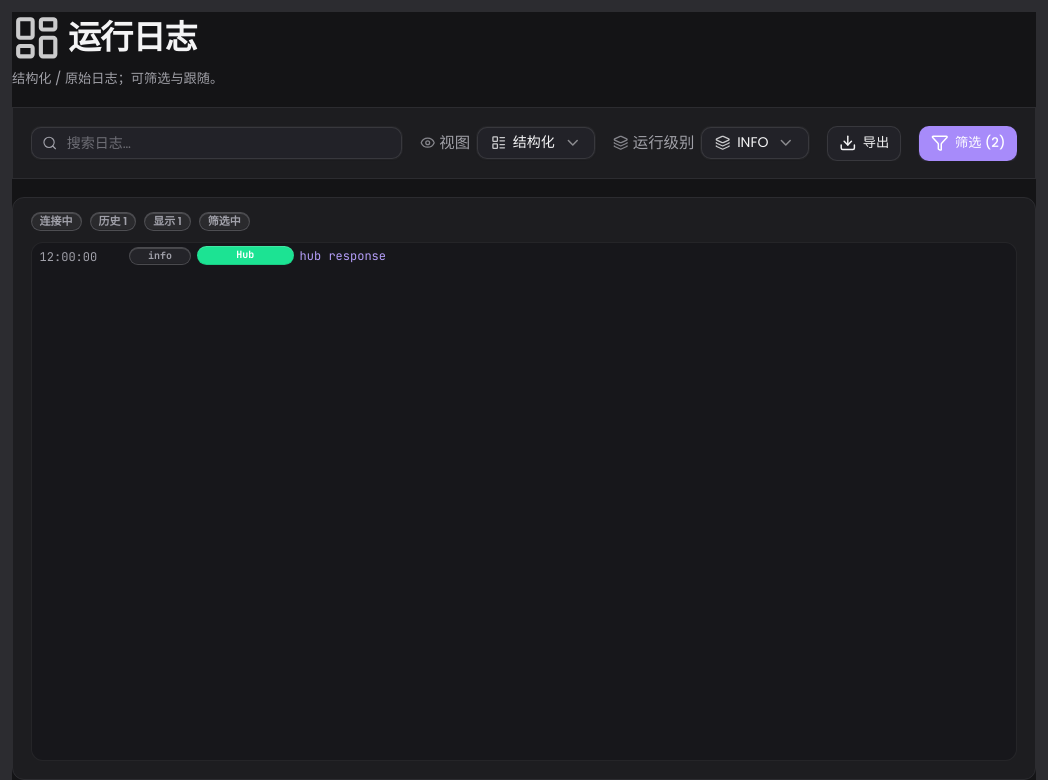
keeps the selected source when an older HTTP response arrives late
Expected: the text "hub response" is shown, [300,248,386,264]
Click the button "筛选 (2)" at point(968, 143), box [919,126,1017,161]
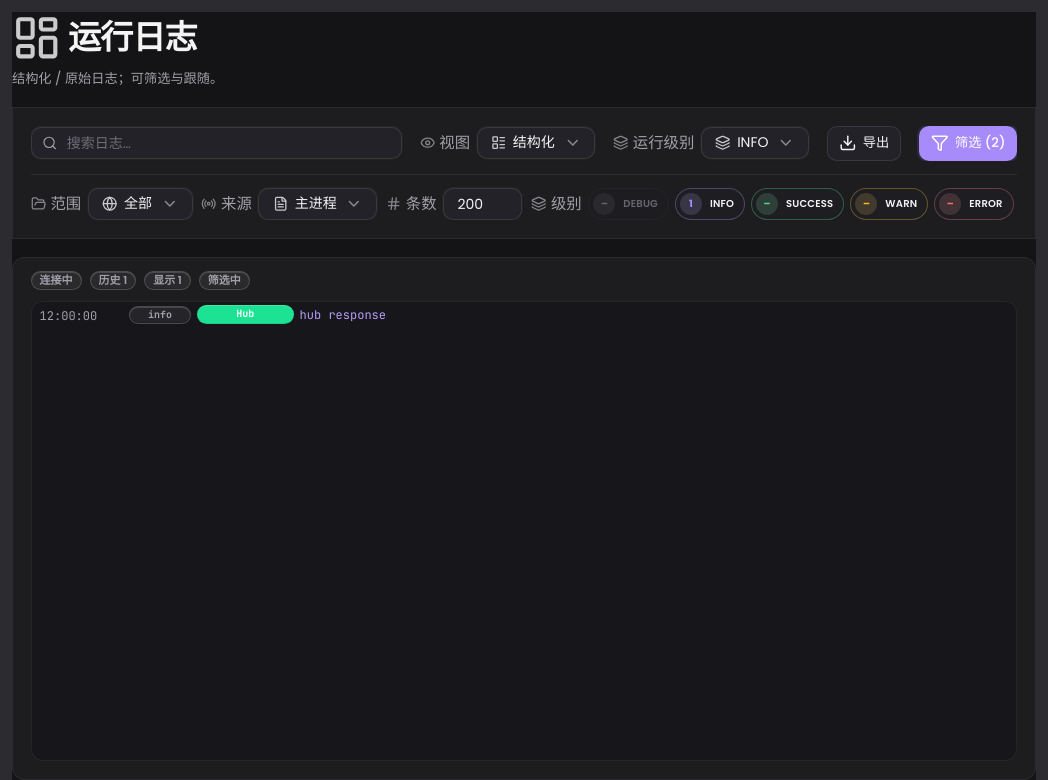
Click the dropdown named "日志来源" at point(318, 204), box [258,188,377,220]
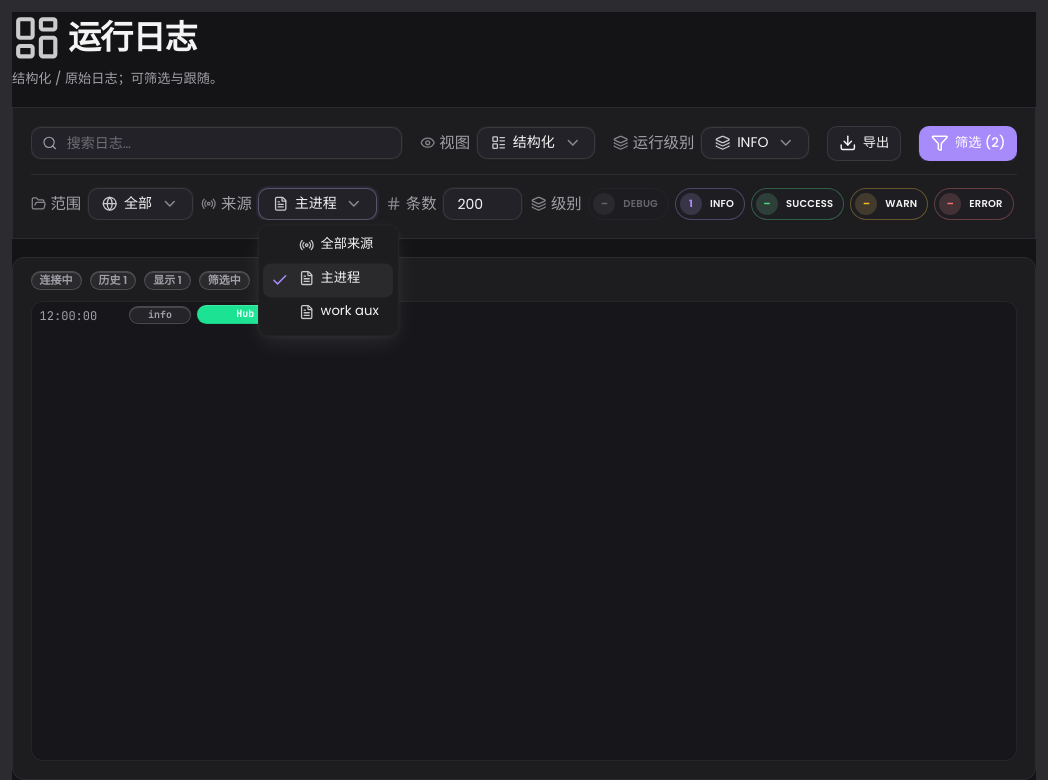
Click the option "work aux" at point(339, 311), box [299,302,379,321]
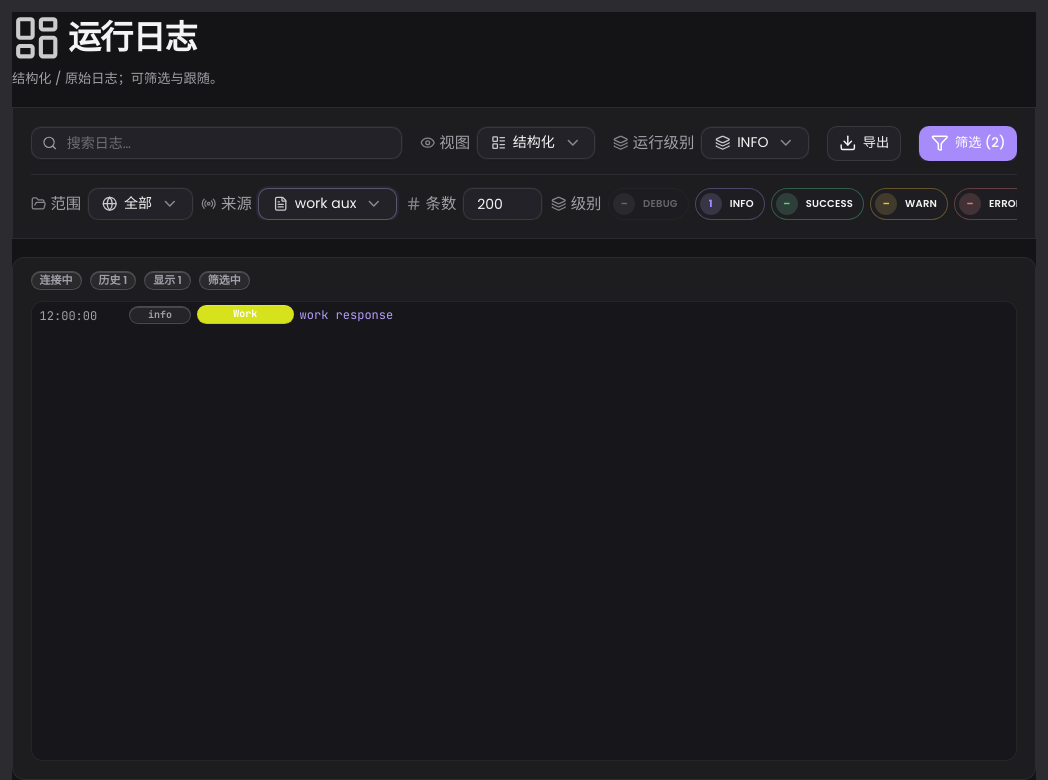
Now the text "work response" is shown, box [300,307,393,323]
Click the dropdown named "日志来源" at point(328, 204), box [258,188,397,220]
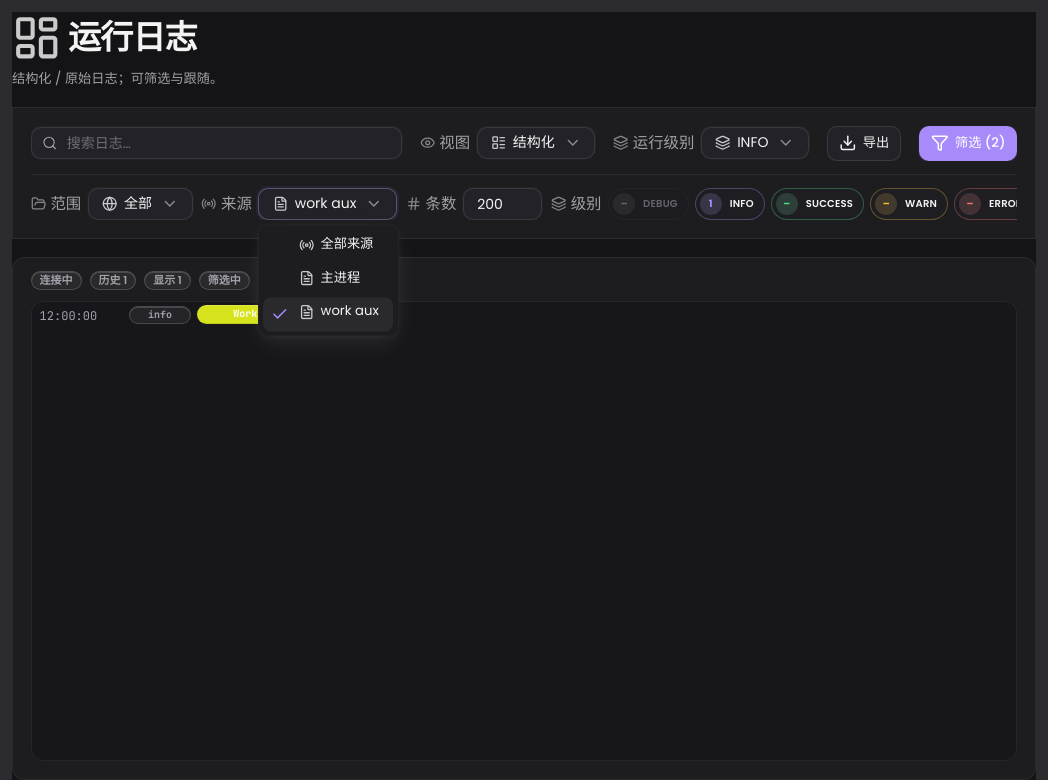
Now the option "work aux" is shown, box [263,297,393,331]
